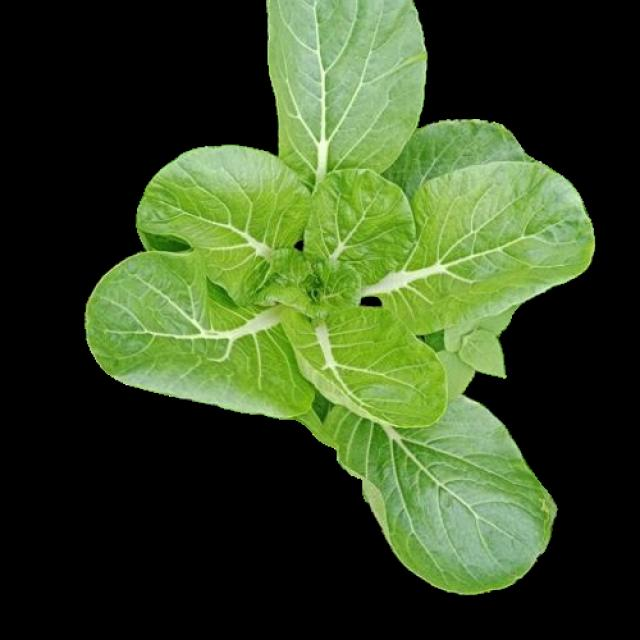healthy: (84, 4, 592, 590)
mature: (86, 6, 594, 592)
